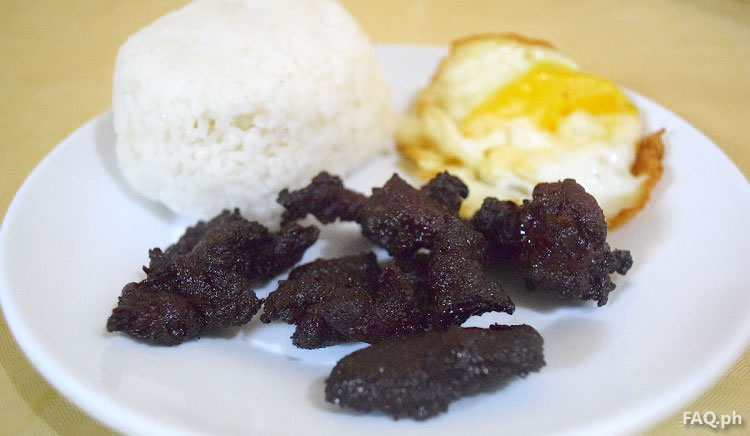fried egg: (421, 46, 604, 202)
plain rice: (123, 36, 391, 170)
